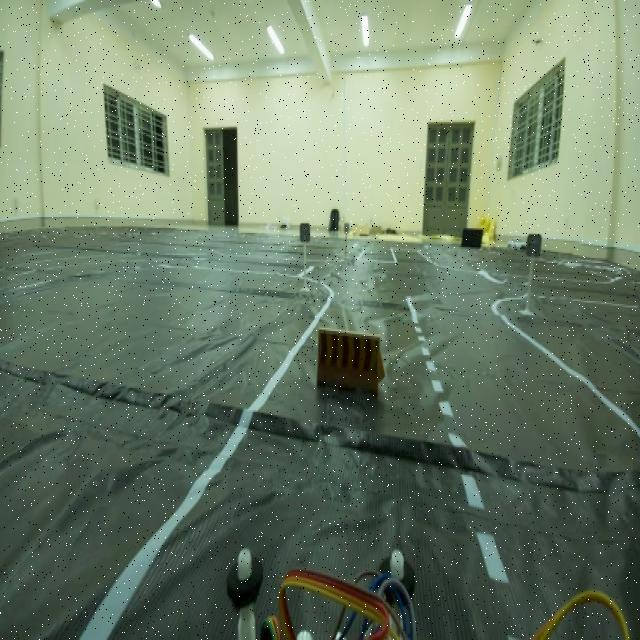roadblock: (313, 317, 387, 410)
